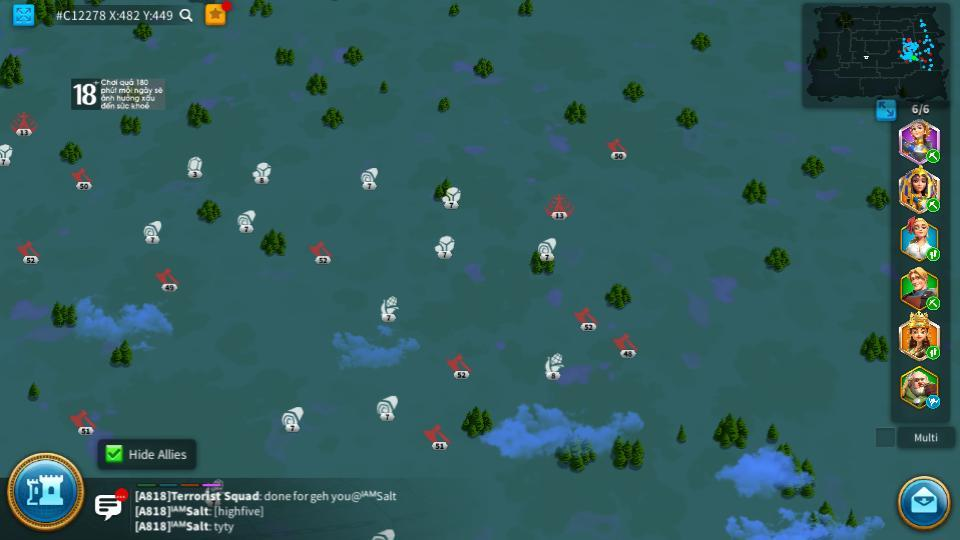gem-z-out: (184, 156, 203, 176)
march_farming: (925, 197, 941, 212)
march_idle: (925, 396, 942, 408)
march_marching: (925, 347, 942, 359), (925, 150, 942, 162), (925, 297, 942, 308)
